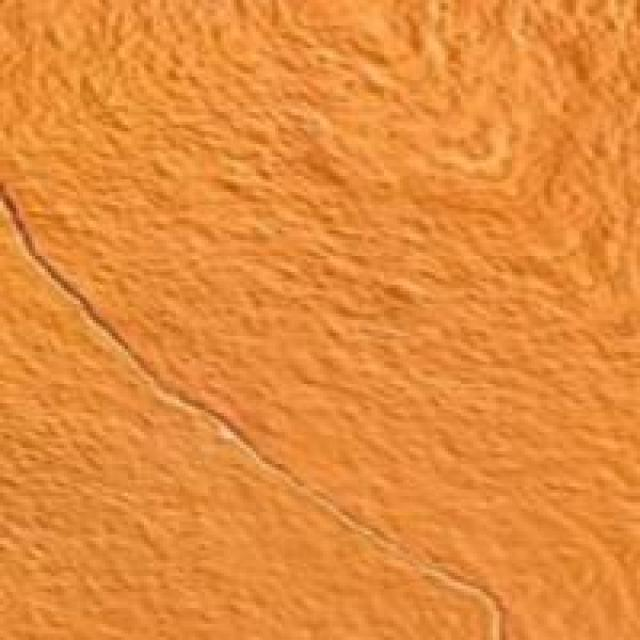crack: (0, 131, 326, 547)
